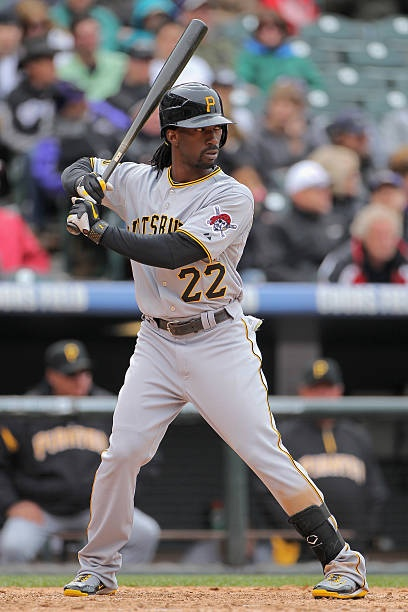bita: (70, 19, 208, 217)
